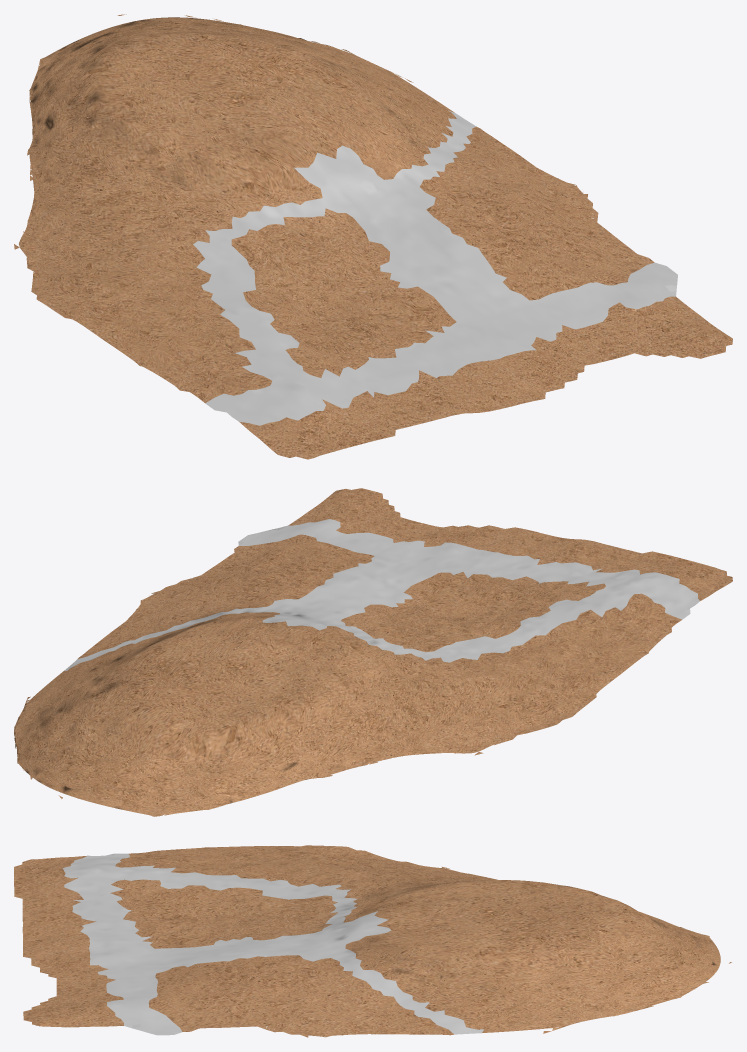
File: Field4.fbx
3 views of the same model, one above another, from view 1: azimuth 30°, elevation 25°; view 2: azimuth 150°, elevation 25°; view 3: azimuth 270°, elevation 25° (orthographic). The views are drawn at different scales.
Parts seen in each view (by area): view 1: LV_Campagna_Mountain_SM_HSH; view 2: LV_Campagna_Mountain_SM_HSH; view 3: LV_Campagna_Mountain_SM_HSH.
Boxes of the visible parts, x1,y1,x2,y2 form: LV_Campagna_Mountain_SM_HSH: (14, 14, 732, 459); LV_Campagna_Mountain_SM_HSH: (14, 488, 732, 816); LV_Campagna_Mountain_SM_HSH: (14, 845, 731, 1037).
Bounding box in the file's own units: 1.13e+10 × 1.33e+09 × 1.81e+10.
